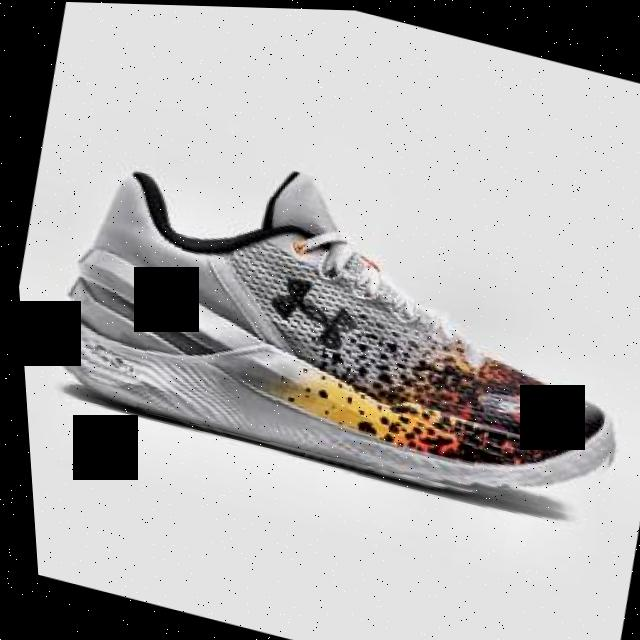shoe: (19, 115, 640, 528)
